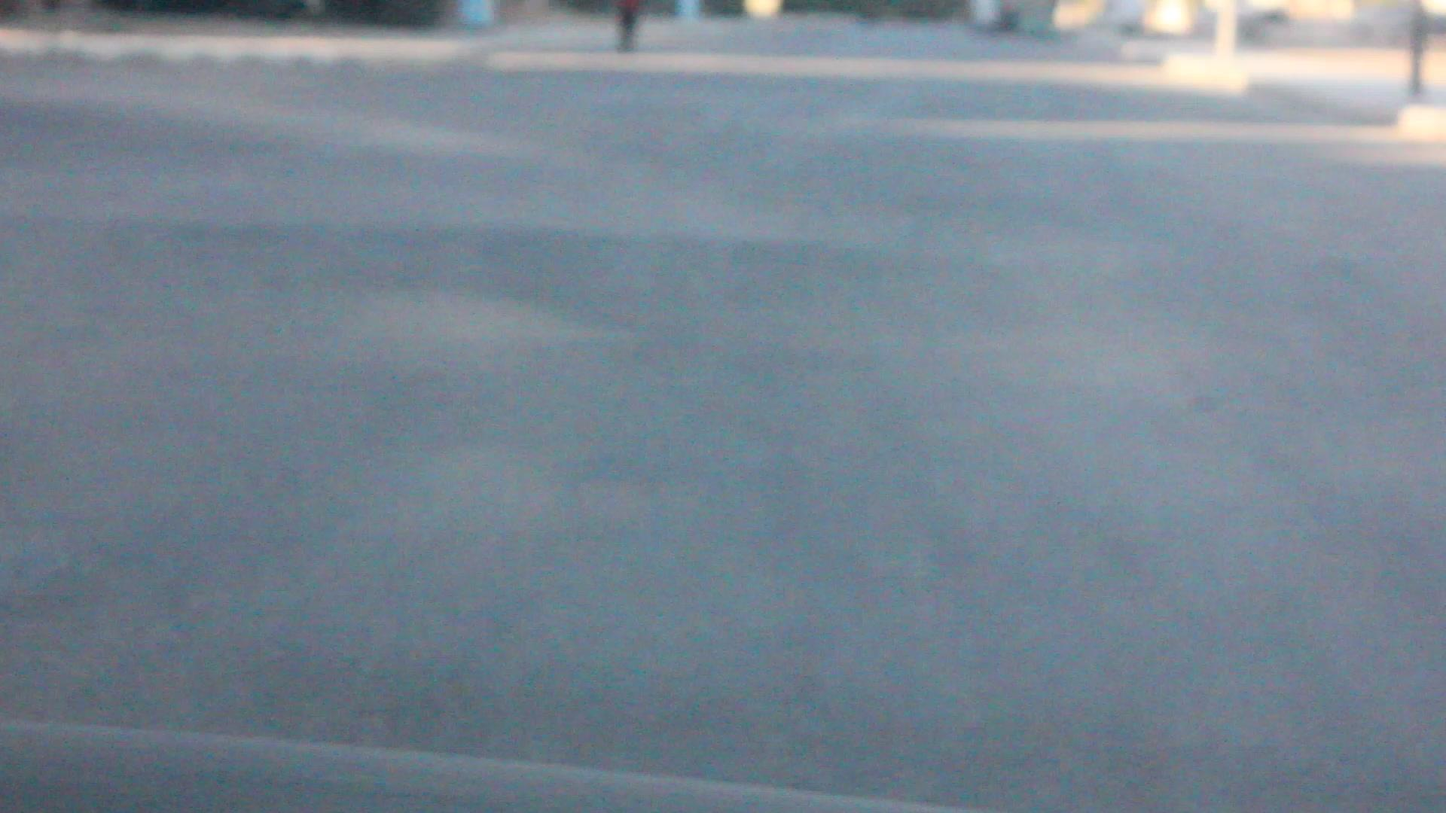Bump: (34, 209, 1446, 359)
